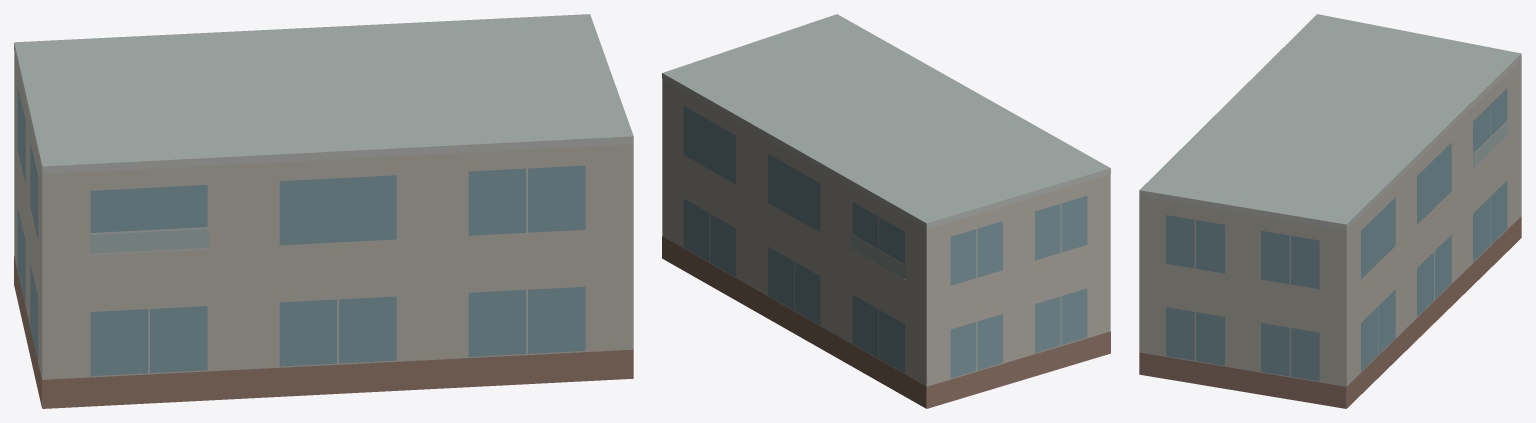
Rendered from survey-upis-32743230.glb.
3 views of the same model, side by side, from view 1: azimuth 30°, elevation 25°; view 2: azimuth 150°, elevation 25°; view 3: azimuth 270°, elevation 25° (orthographic). The views are drawn at different scales.
Parts seen in each view (by area): view 1: survey-upis-32743230.tmp; view 2: survey-upis-32743230.tmp; view 3: survey-upis-32743230.tmp.
Boxes of the visible parts, x1=… form: survey-upis-32743230.tmp: x1=14, y1=14, x2=633, y2=408; survey-upis-32743230.tmp: x1=662, y1=14, x2=1110, y2=408; survey-upis-32743230.tmp: x1=1139, y1=14, x2=1521, y2=408.
Bounding box in the file's own units: 18.62 × 7.6 × 14.29.
